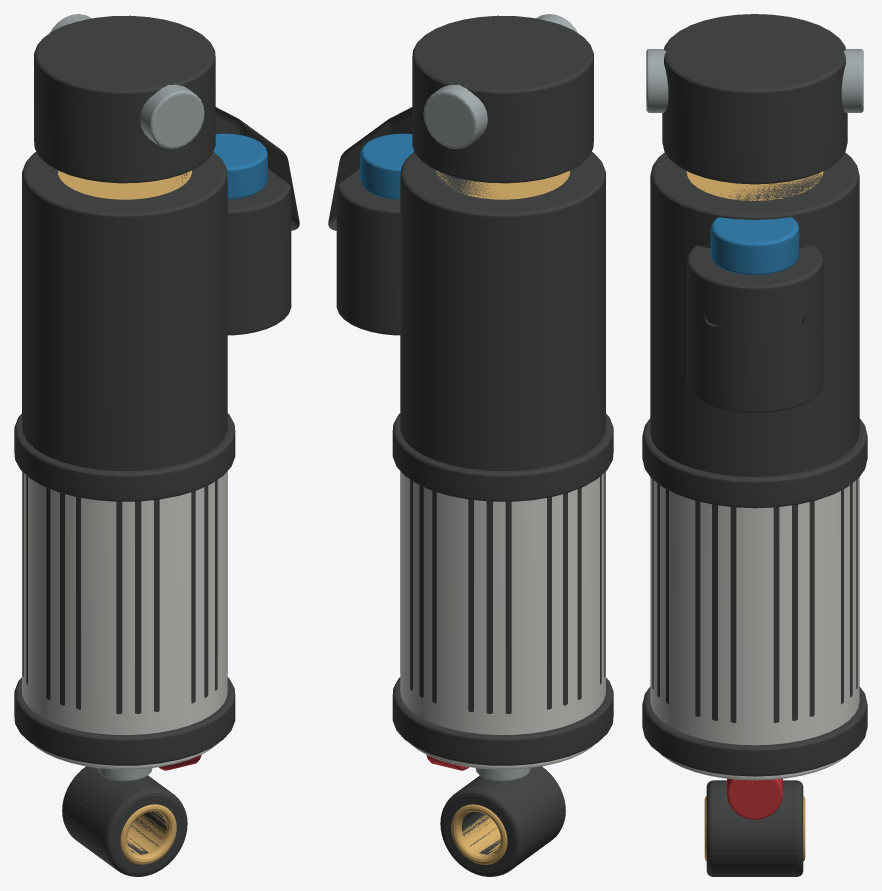
The model's file is fox-float-x2-factory-my26--42227fe6.glb.
3 views of the same model, side by side, from view 1: azimuth 30°, elevation 25°; view 2: azimuth 150°, elevation 25°; view 3: azimuth 270°, elevation 25° (orthographic).
Visible parts, largest first — view 1: fox-float-x2-factory-my26--42227fe6__link, fox-float-x2-factory-my26--42227fe6__frame, fox-float-x2-factory-my26--42227fe6__stanchions, fox-float-x2-factory-my26--42227fe6__bolts, fox-float-x2-factory-my26--42227fe6__adjuster; view 2: fox-float-x2-factory-my26--42227fe6__link, fox-float-x2-factory-my26--42227fe6__frame, fox-float-x2-factory-my26--42227fe6__stanchions, fox-float-x2-factory-my26--42227fe6__bolts, fox-float-x2-factory-my26--42227fe6__adjuster; view 3: fox-float-x2-factory-my26--42227fe6__link, fox-float-x2-factory-my26--42227fe6__frame, fox-float-x2-factory-my26--42227fe6__adjuster, fox-float-x2-factory-my26--42227fe6__bolts, fox-float-x2-factory-my26--42227fe6__stanchions, fox-float-x2-factory-my26--42227fe6__rebound.
Part boxes in pixels (bbox=[...]): fox-float-x2-factory-my26--42227fe6__link: bbox=[14, 15, 299, 876]; fox-float-x2-factory-my26--42227fe6__frame: bbox=[22, 471, 227, 769]; fox-float-x2-factory-my26--42227fe6__stanchions: bbox=[57, 170, 191, 864]; fox-float-x2-factory-my26--42227fe6__bolts: bbox=[49, 14, 204, 781]; fox-float-x2-factory-my26--42227fe6__adjuster: bbox=[213, 133, 267, 199]; fox-float-x2-factory-my26--42227fe6__link: bbox=[328, 15, 613, 876]; fox-float-x2-factory-my26--42227fe6__frame: bbox=[400, 471, 605, 769]; fox-float-x2-factory-my26--42227fe6__stanchions: bbox=[436, 170, 570, 864]; fox-float-x2-factory-my26--42227fe6__bolts: bbox=[423, 14, 578, 781]; fox-float-x2-factory-my26--42227fe6__adjuster: bbox=[360, 133, 414, 199]; fox-float-x2-factory-my26--42227fe6__link: bbox=[642, 14, 867, 876]; fox-float-x2-factory-my26--42227fe6__frame: bbox=[650, 477, 859, 780]; fox-float-x2-factory-my26--42227fe6__adjuster: bbox=[710, 217, 799, 275]; fox-float-x2-factory-my26--42227fe6__bolts: bbox=[646, 49, 863, 112]; fox-float-x2-factory-my26--42227fe6__stanchions: bbox=[686, 171, 823, 861]; fox-float-x2-factory-my26--42227fe6__rebound: bbox=[726, 778, 783, 819].
Bounding box in the file's own units: 0.074 × 0.225 × 0.056.
